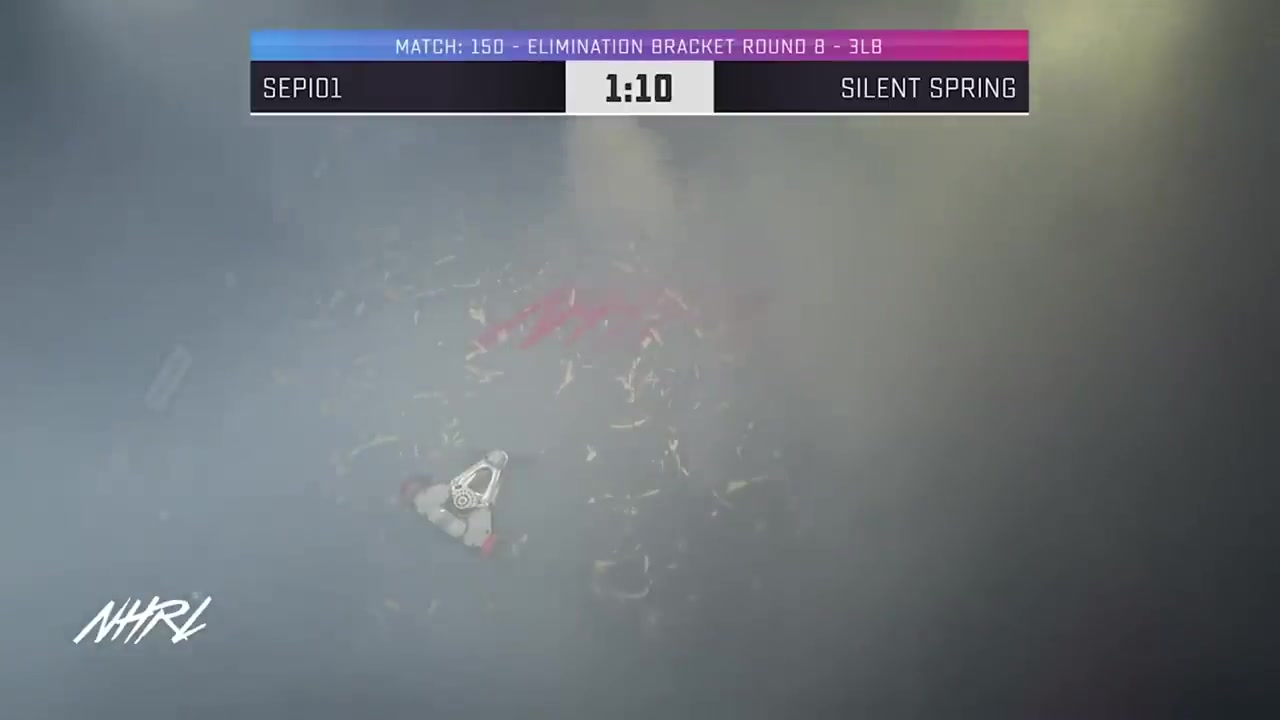combatbot: (398, 443, 518, 556)
